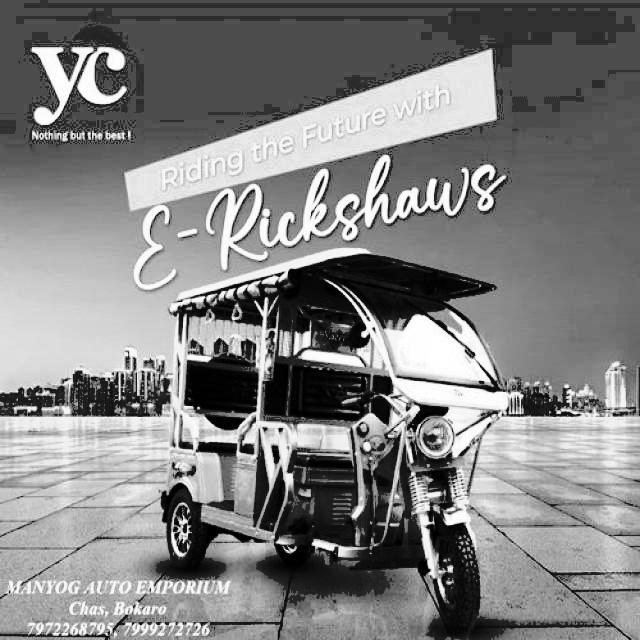Toto: (161, 248, 503, 627)
